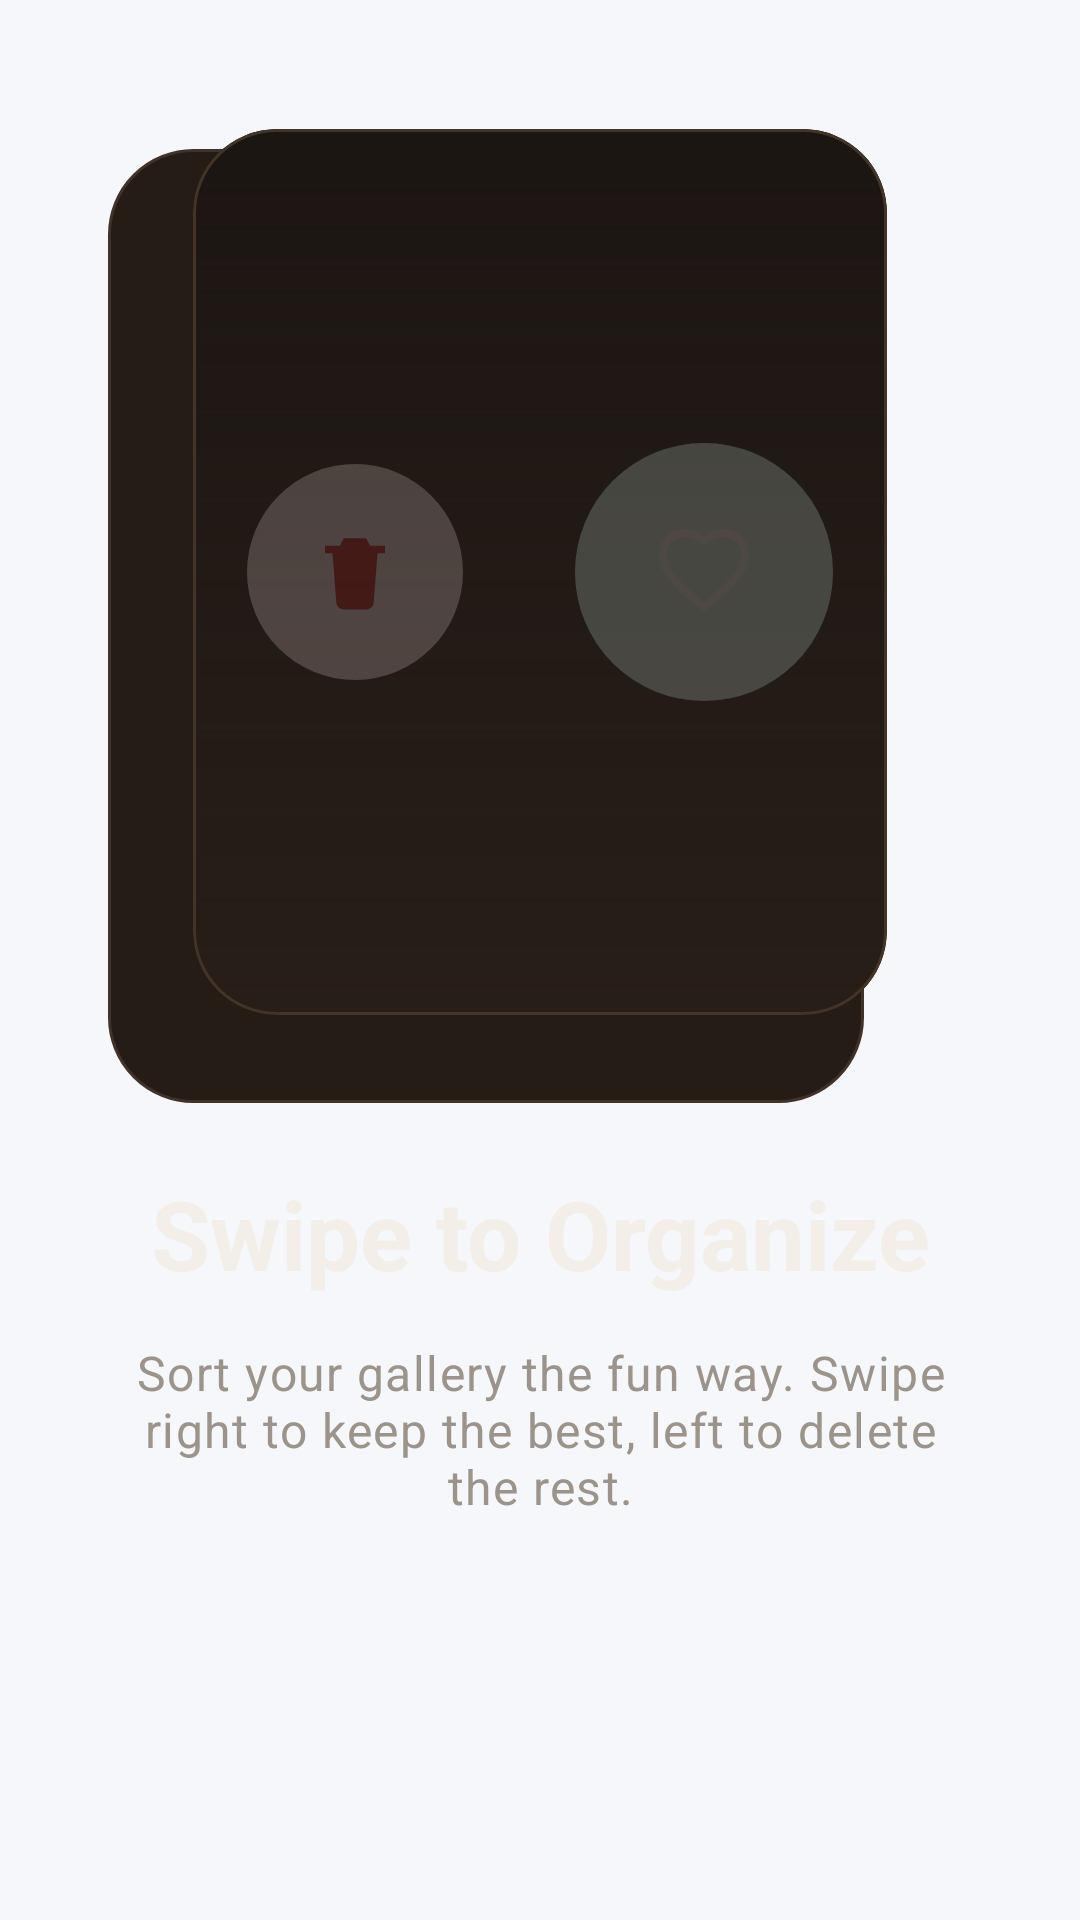

Screen size 1080x1920. Icon name, then its box in pixels as (x1, y1, x2, y2):
delete: (325, 538, 385, 609)
